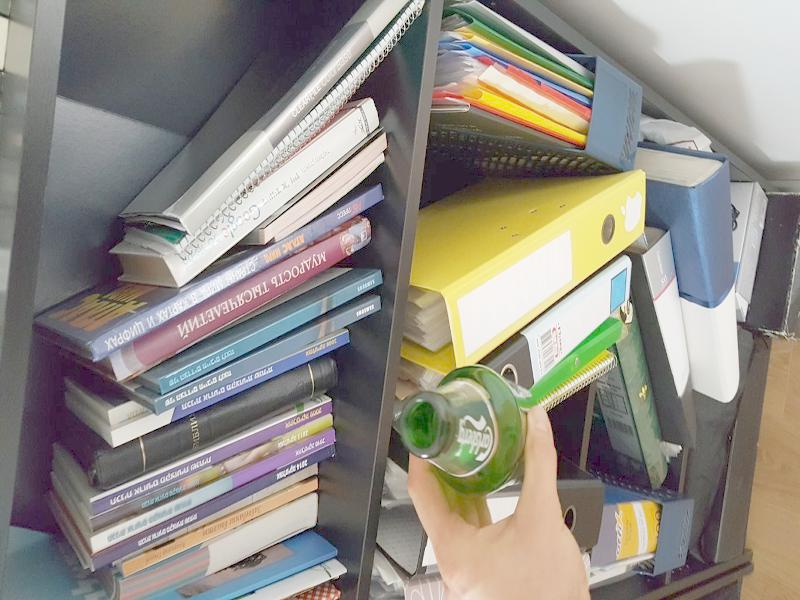Beer: (403, 366, 538, 490)
